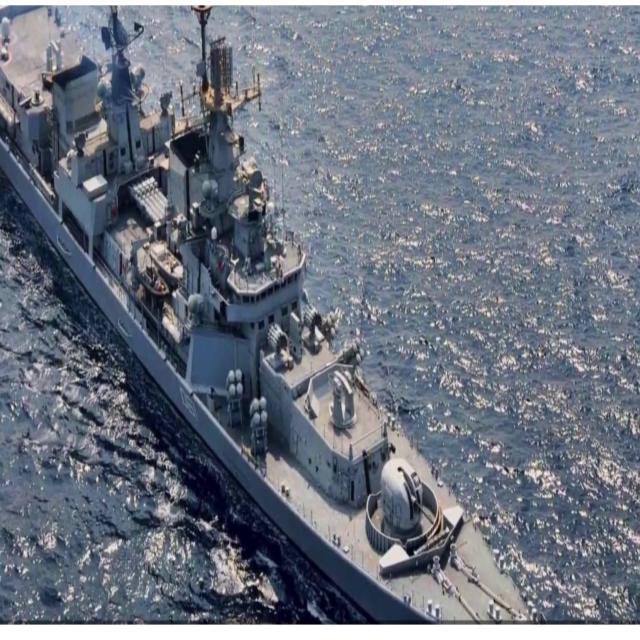OCR: (176, 384, 203, 432)
